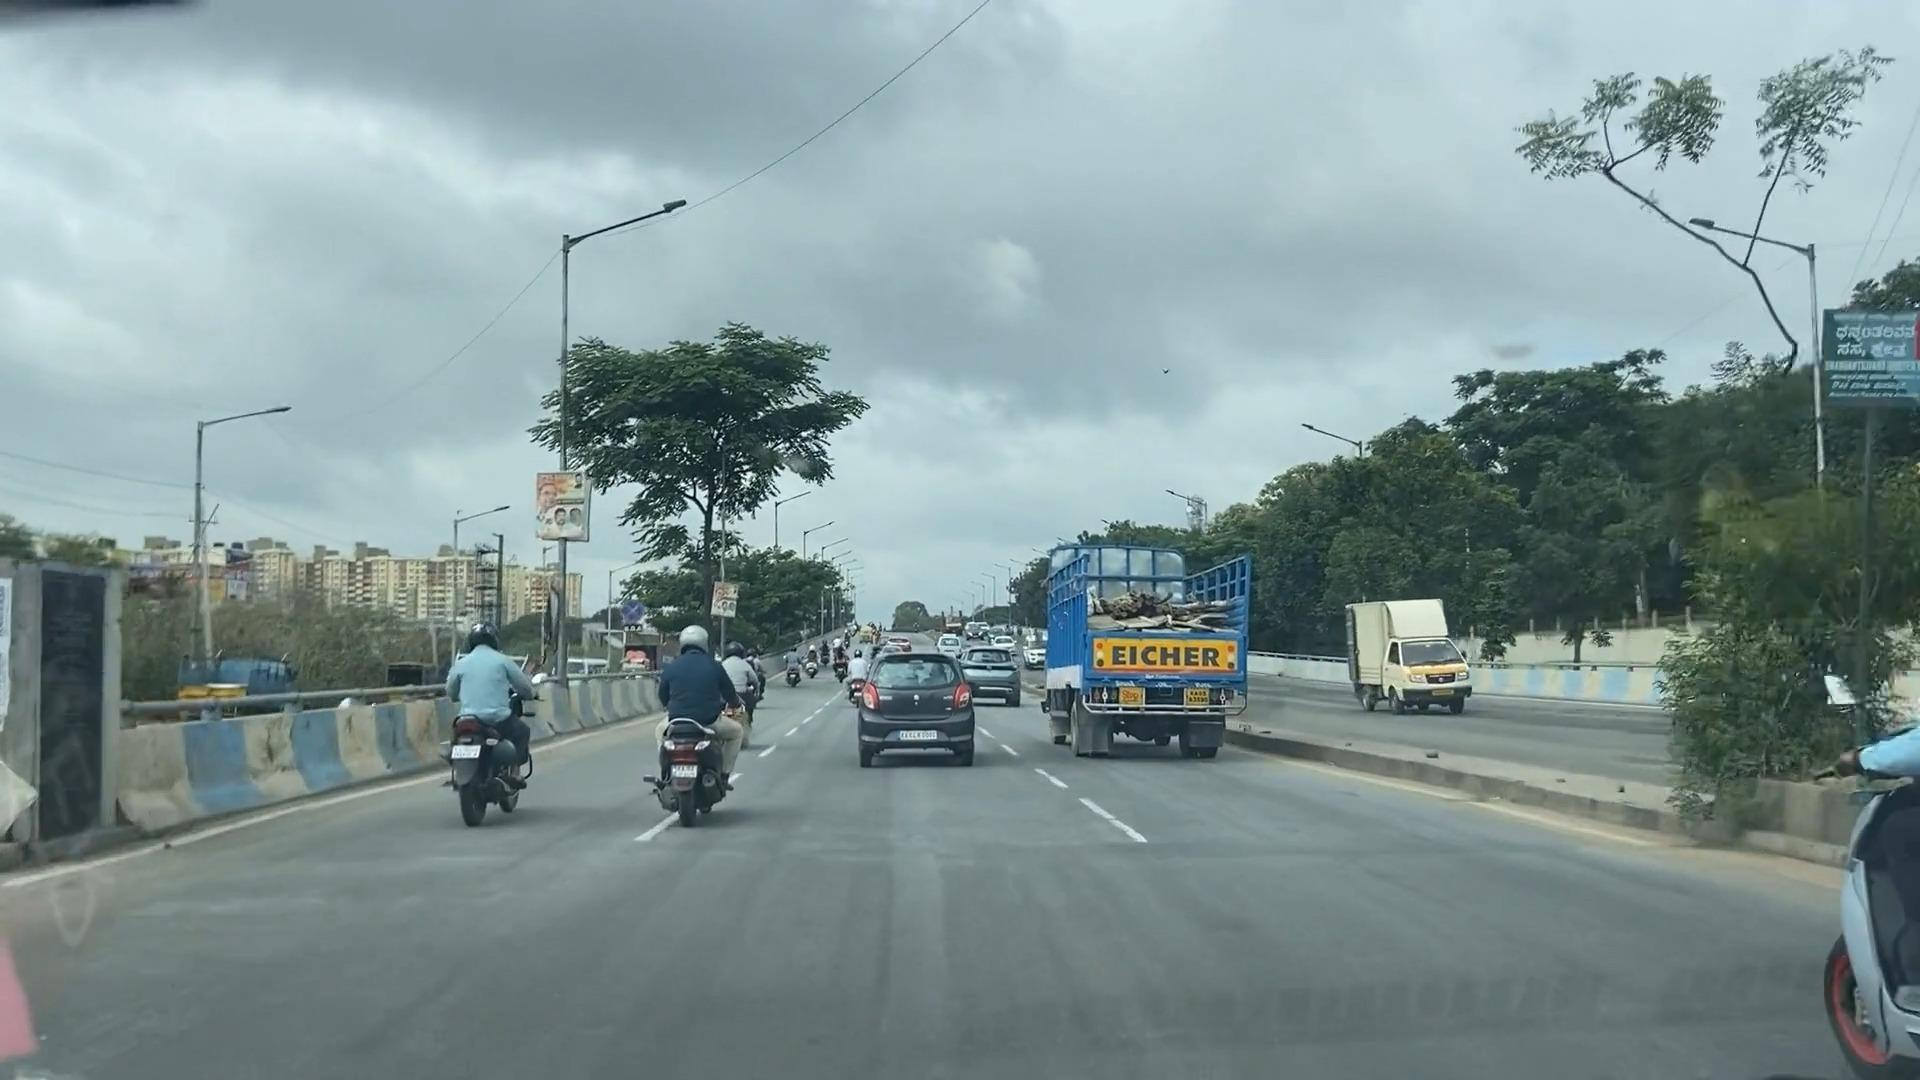HMV: (1073, 533, 1244, 742)
LMV: (443, 637, 551, 832), (653, 620, 752, 808), (860, 653, 978, 758)
